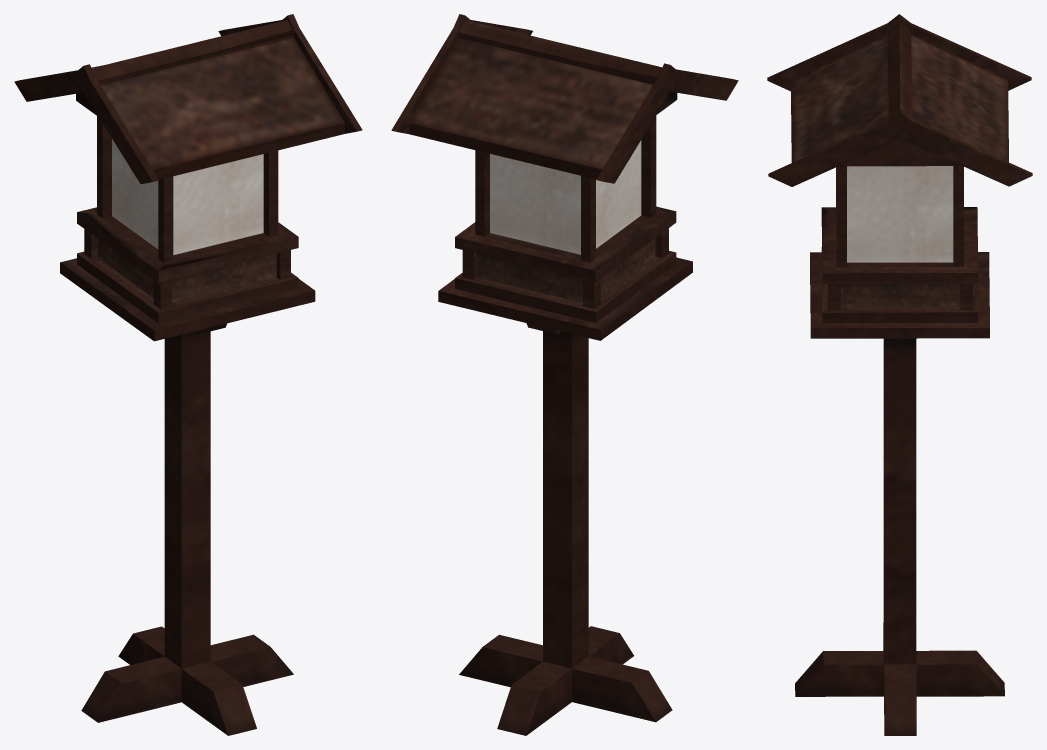
File: NNJ0310025.fbx
3 renders of one model, left to right at view 1: azimuth 30°, elevation 25°; view 2: azimuth 150°, elevation 25°; view 3: azimuth 270°, elevation 25°, orthographic. The views are drawn at different scales.
Visible parts, largest first — view 1: smNNJ0310025; view 2: smNNJ0310025; view 3: smNNJ0310025.
Boxes of the visible parts, box(x1,y1,x2,y2) form: smNNJ0310025: box(14, 14, 362, 735); smNNJ0310025: box(391, 14, 738, 735); smNNJ0310025: box(767, 14, 1032, 735).
Size of the model in its own units: 101 by 298 by 115.
Materials: 1 (1 with a texture image).
